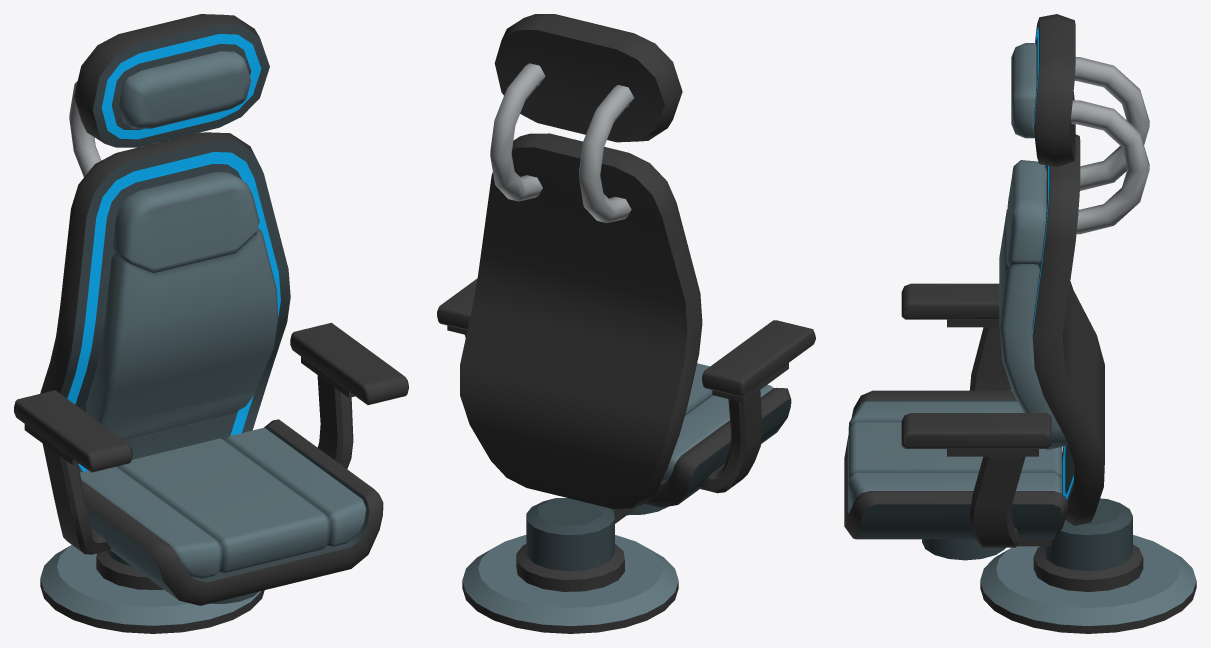
File: Armchair_007.glb
3 views of the same model, side by side, from view 1: azimuth 30°, elevation 25°; view 2: azimuth 150°, elevation 25°; view 3: azimuth 270°, elevation 25° (orthographic). The views are drawn at different scales.
Parts seen in each view (by area): view 1: Armchair_007_body_001, Armchair_007; view 2: Armchair_007_body_001, Armchair_007; view 3: Armchair_007_body_001, Armchair_007.
Part boxes in pixels (box(x1,y1,x2,y2)): Armchair_007_body_001: box(14, 14, 408, 605); Armchair_007: box(40, 545, 264, 633); Armchair_007_body_001: box(437, 14, 815, 509); Armchair_007: box(462, 498, 678, 633); Armchair_007_body_001: box(844, 14, 1149, 547); Armchair_007: box(922, 498, 1196, 633).
Size of the model in its own units: 0.9047 by 1.55 by 0.8973.
2 materials, 2 textured.
